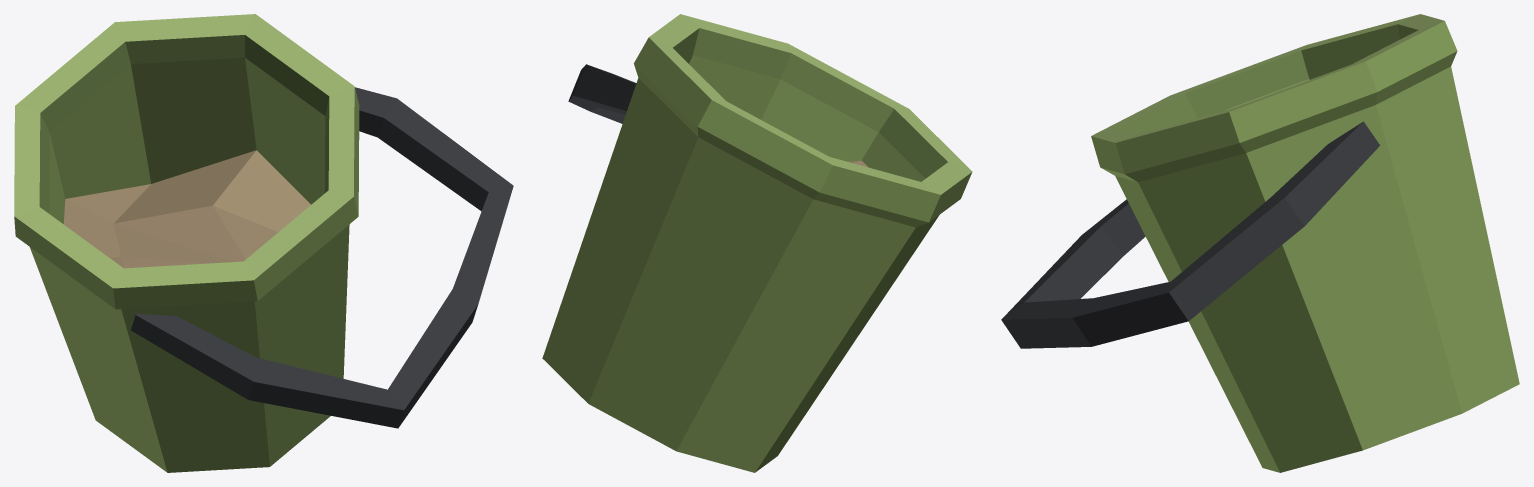
The model's file is SM_Prop_SandBucket_01.fbx.
The picture shows the model from 3 angles, left to right: view 1: azimuth 30°, elevation 25°; view 2: azimuth 150°, elevation 25°; view 3: azimuth 270°, elevation 25°; orthographic projection. The views are drawn at different scales.
Visible parts, largest first — view 1: SM_Prop_SandBucket_01; view 2: SM_Prop_SandBucket_01; view 3: SM_Prop_SandBucket_01.
Part boxes in pixels (box(x1,y1,x2,y2)): SM_Prop_SandBucket_01: box(14, 14, 513, 472); SM_Prop_SandBucket_01: box(542, 14, 972, 472); SM_Prop_SandBucket_01: box(1001, 14, 1519, 472).
Size of the model in its own units: 40.31 by 36.7 by 39.87.
